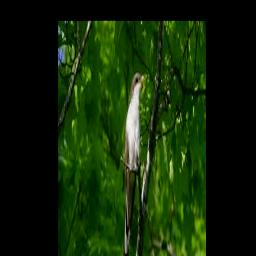Cuckoo: (122, 73, 144, 256)
